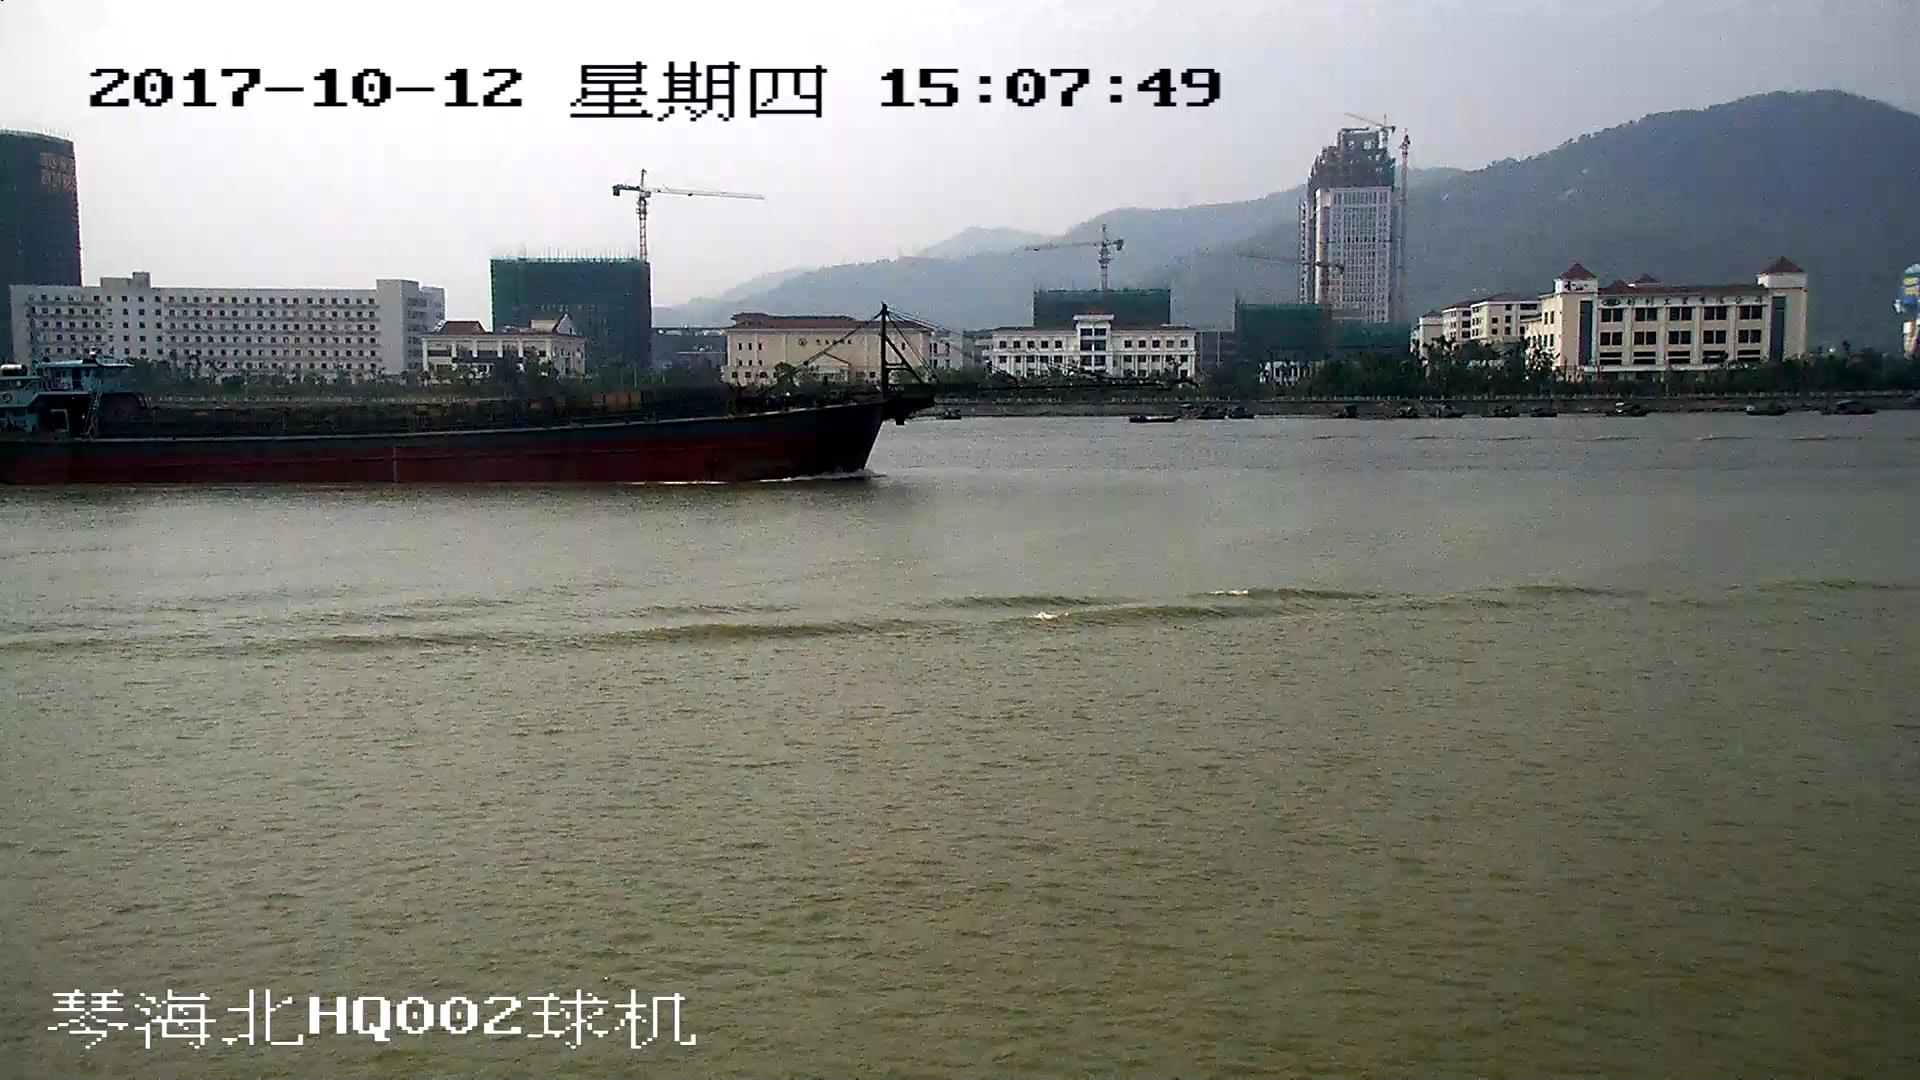bulk cargo carrier: (1, 307, 1058, 486)
